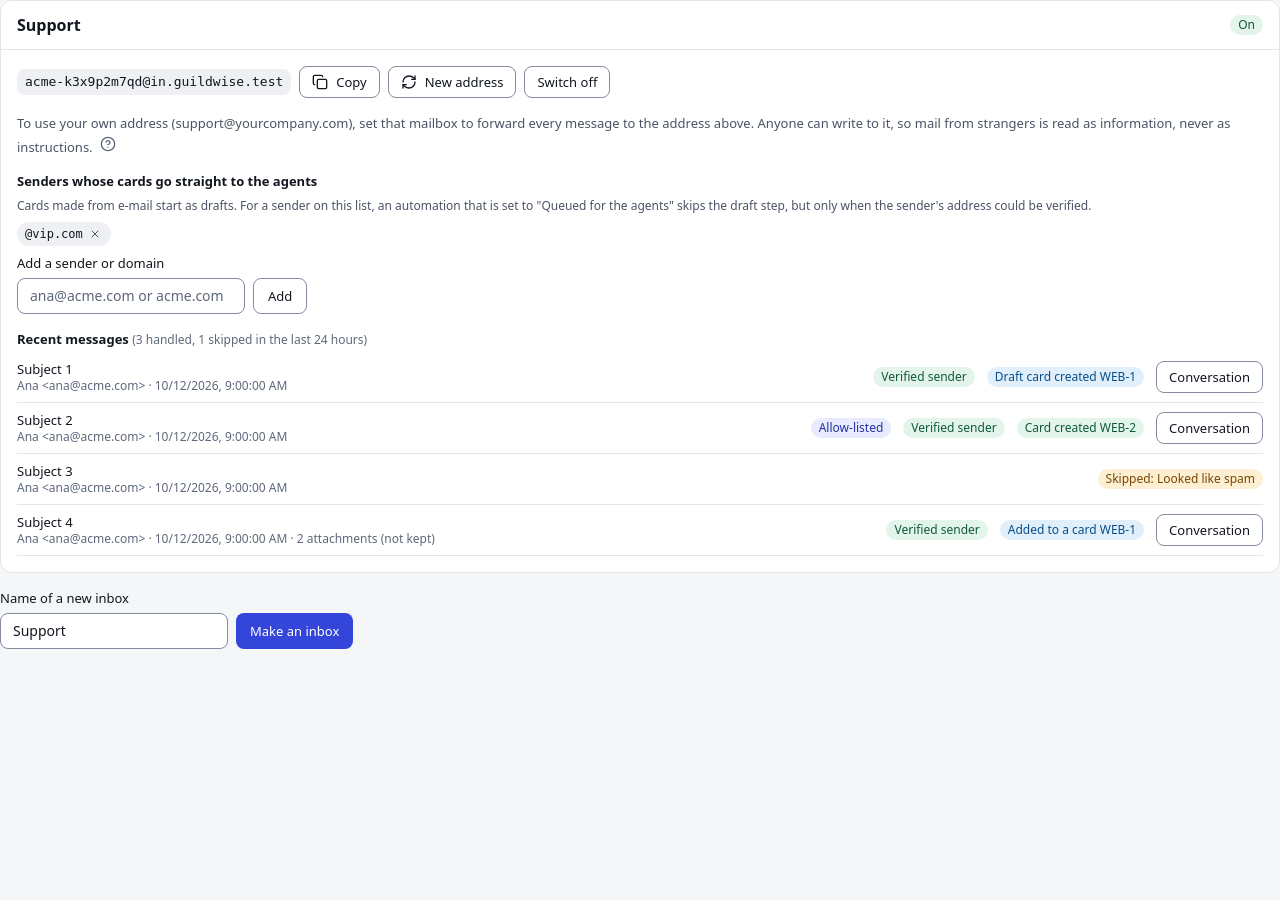
Test: Organization > E-mail inbox › explains auto-forwarding in a tooltip: Gmail, Outlook, aliases, and that customers keep their own address
Click the button named "About forwarding mail to this inbox".
click(108, 144)  # box left=96, top=132, right=120, bottom=156
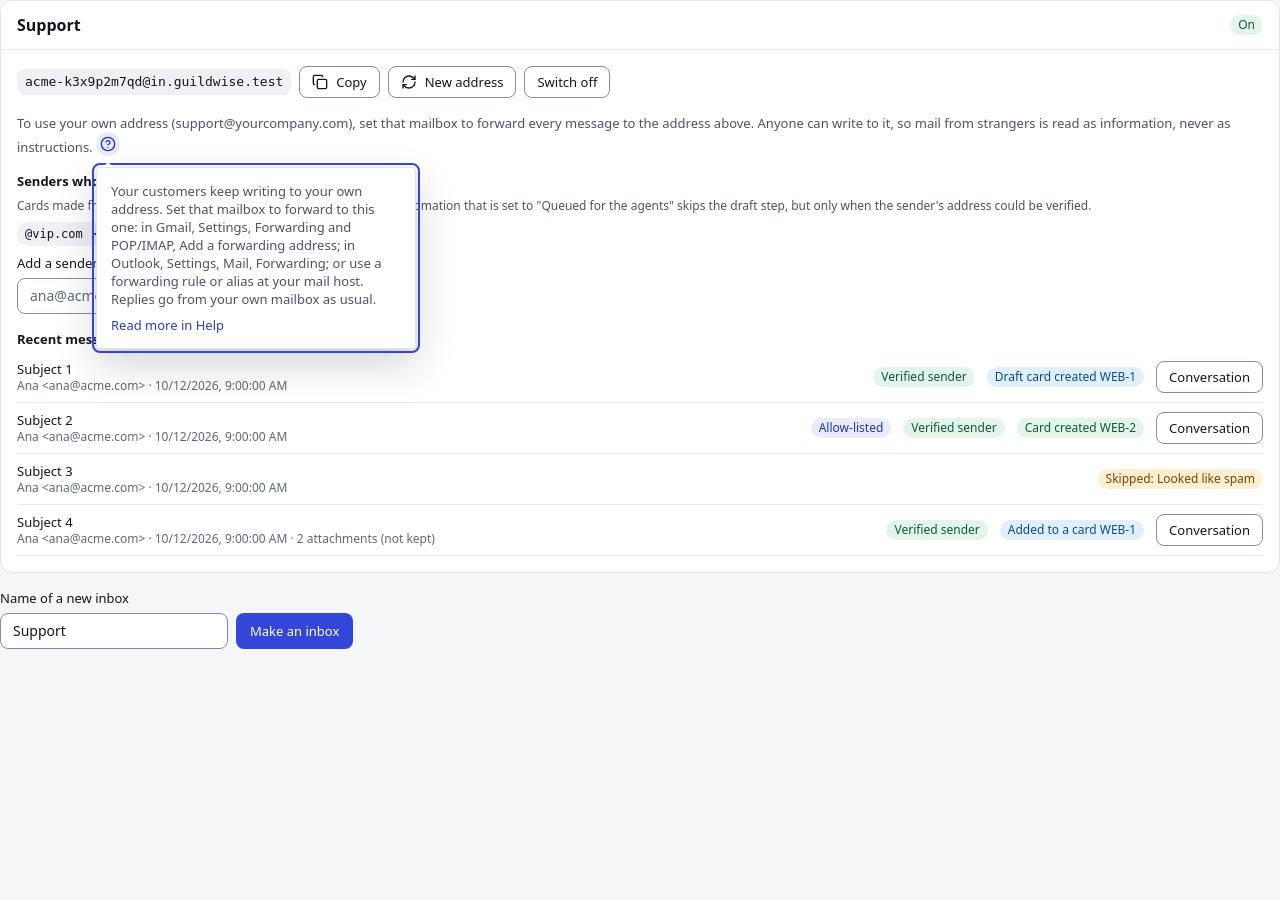
Expected: the text "Your customers keep writing to your own address" shows "Gmail", left=111, top=182, right=382, bottom=308
Expected: the text "Your customers keep writing to your own address" shows "Outlook", left=111, top=182, right=382, bottom=308
Expected: the text "Your customers keep writing to your own address" shows "alias", left=111, top=182, right=382, bottom=308
